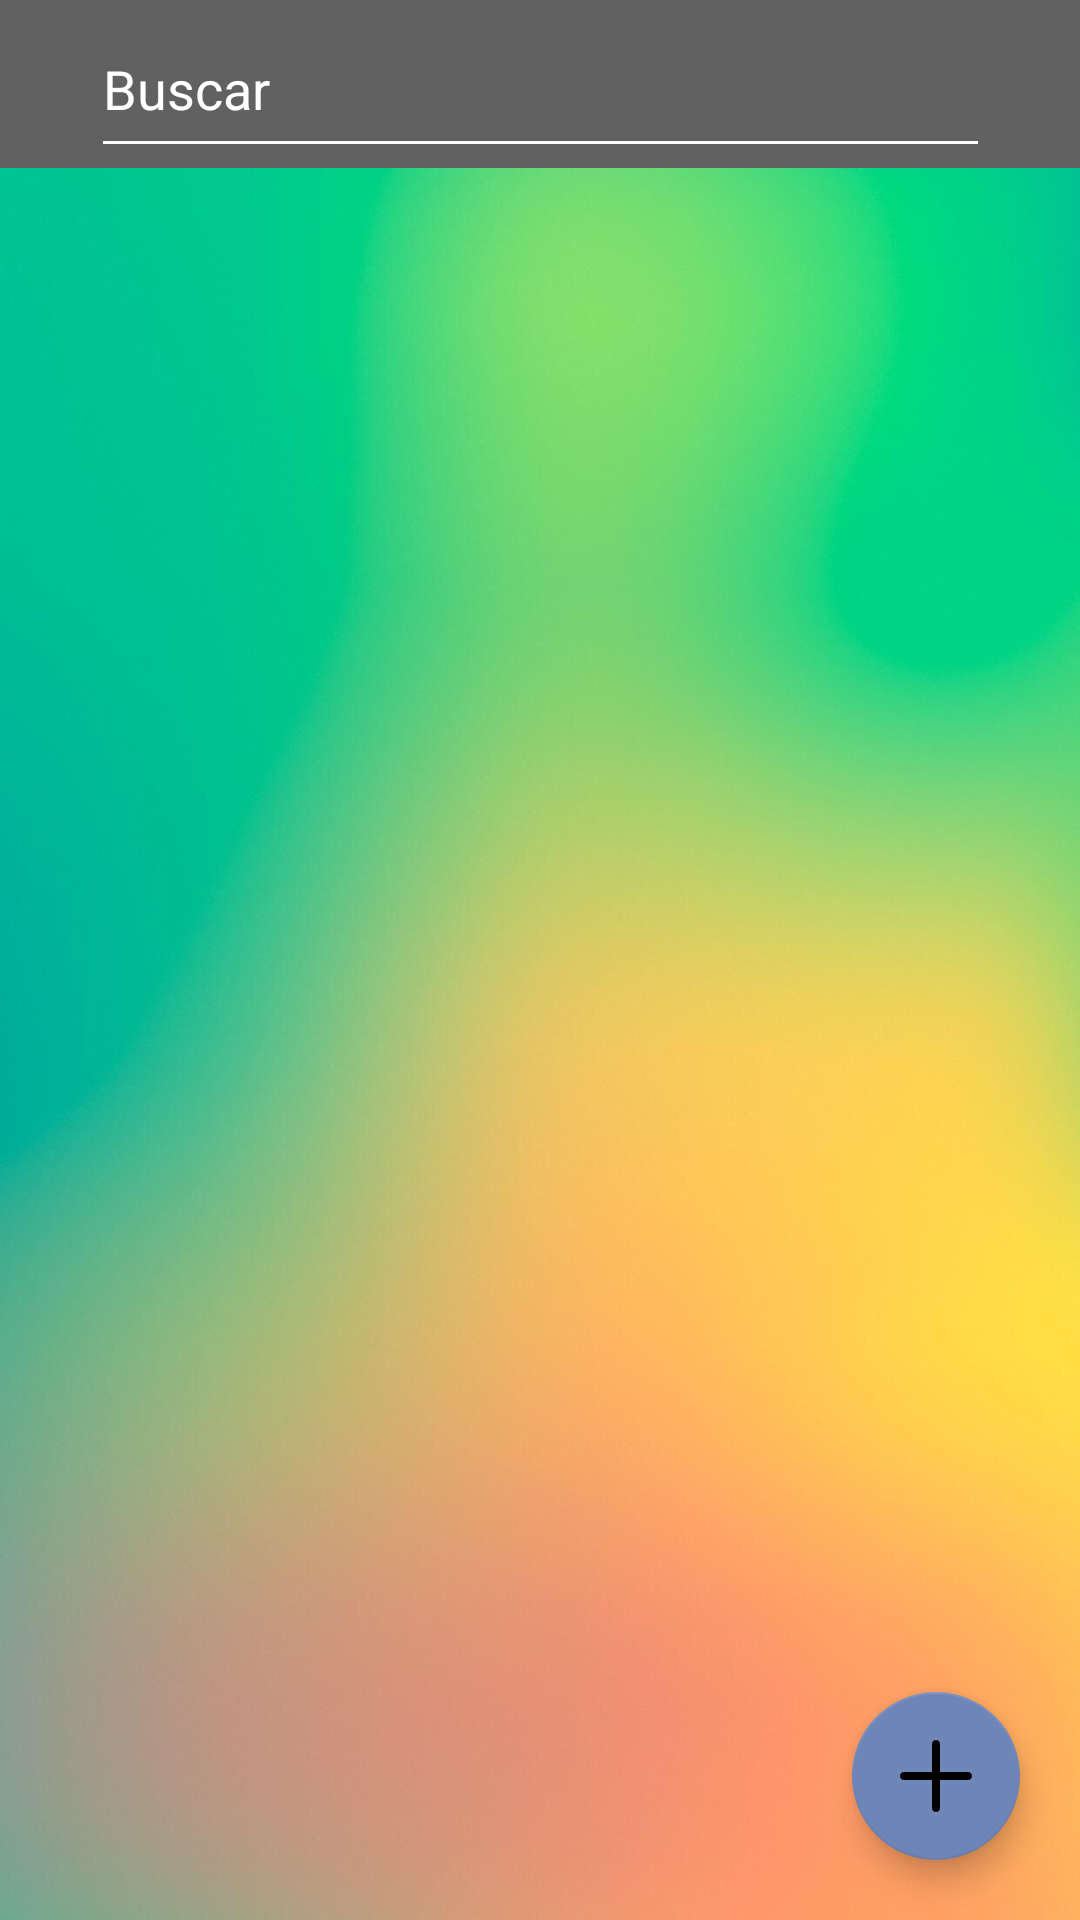

Where icons sit on this 1080 × 1920 app screen, as (x1=x1, y1=y1, x2=x2, y2=y2):
agregar: (x1=852, y1=1692, x2=1020, y2=1860)
